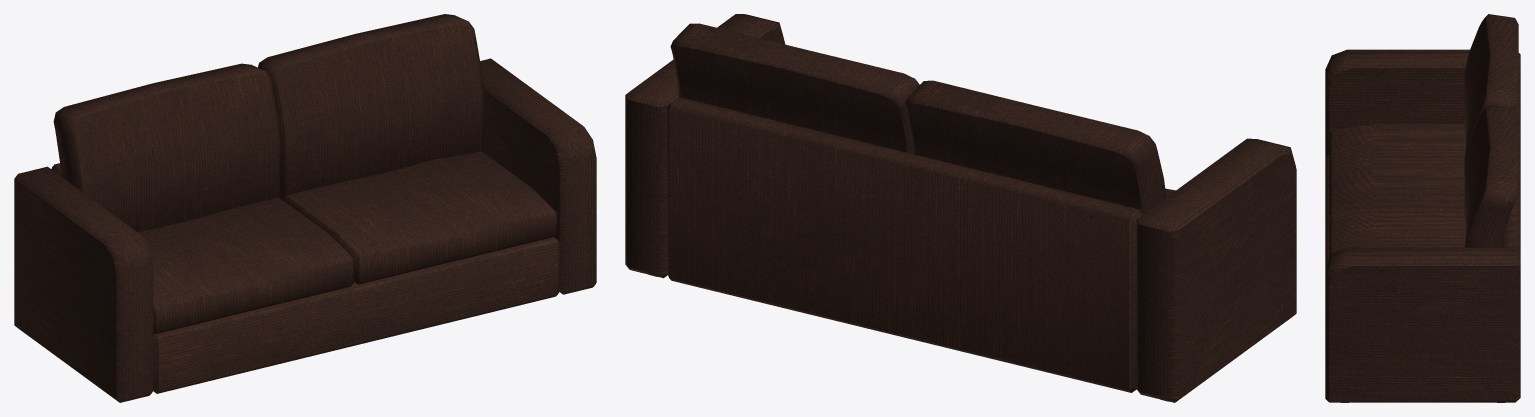
The model's file is sofa_1.obj.
3 renders of one model, left to right at view 1: azimuth 30°, elevation 25°; view 2: azimuth 150°, elevation 25°; view 3: azimuth 270°, elevation 25°, orthographic. The views are drawn at different scales.
Parts seen in each view (by area): view 1: sofa_1; view 2: sofa_1; view 3: sofa_1.
Part boxes in pixels (x1,y1,x2,y2): sofa_1: [14, 14, 596, 402]; sofa_1: [625, 14, 1296, 402]; sofa_1: [1325, 14, 1520, 402].
Bounding box in the file's own units: 2.6 × 1.15 × 1.
